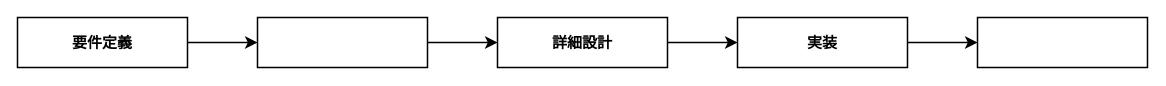
The diagram is 1166 pixels wide and 86 high, and some of its shapes have lost their labels. Here are the shapes that lost their labels. From the top down, the centre of each, then its label:
the point at 342,42: 基本設計
the point at 1062,42: テスト
